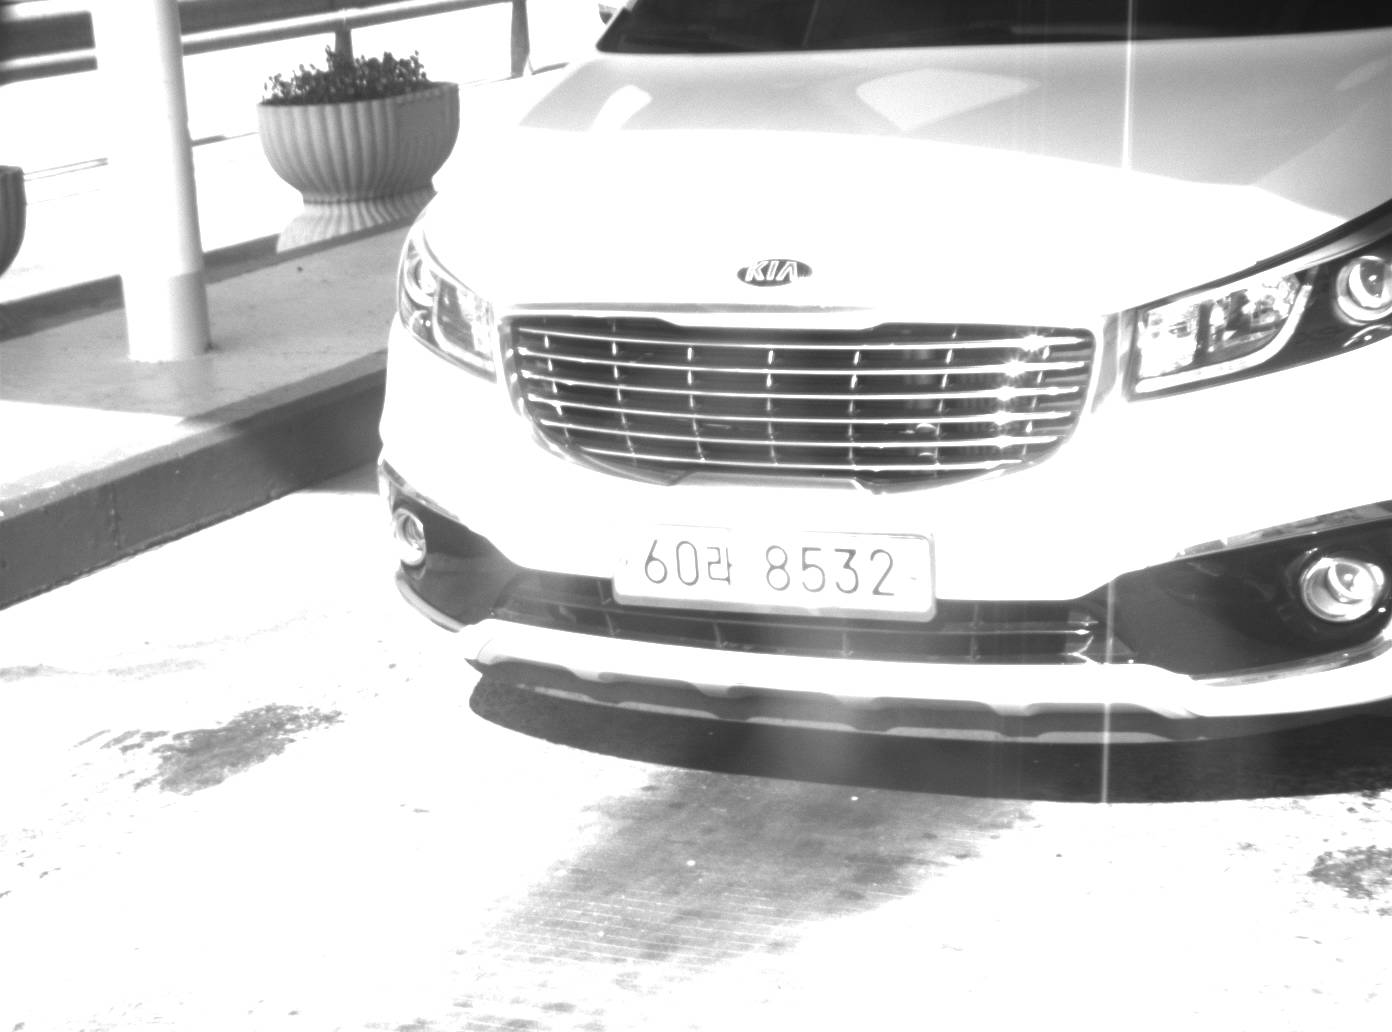car: (373, 1, 1387, 778)
plate: (603, 516, 938, 623)
